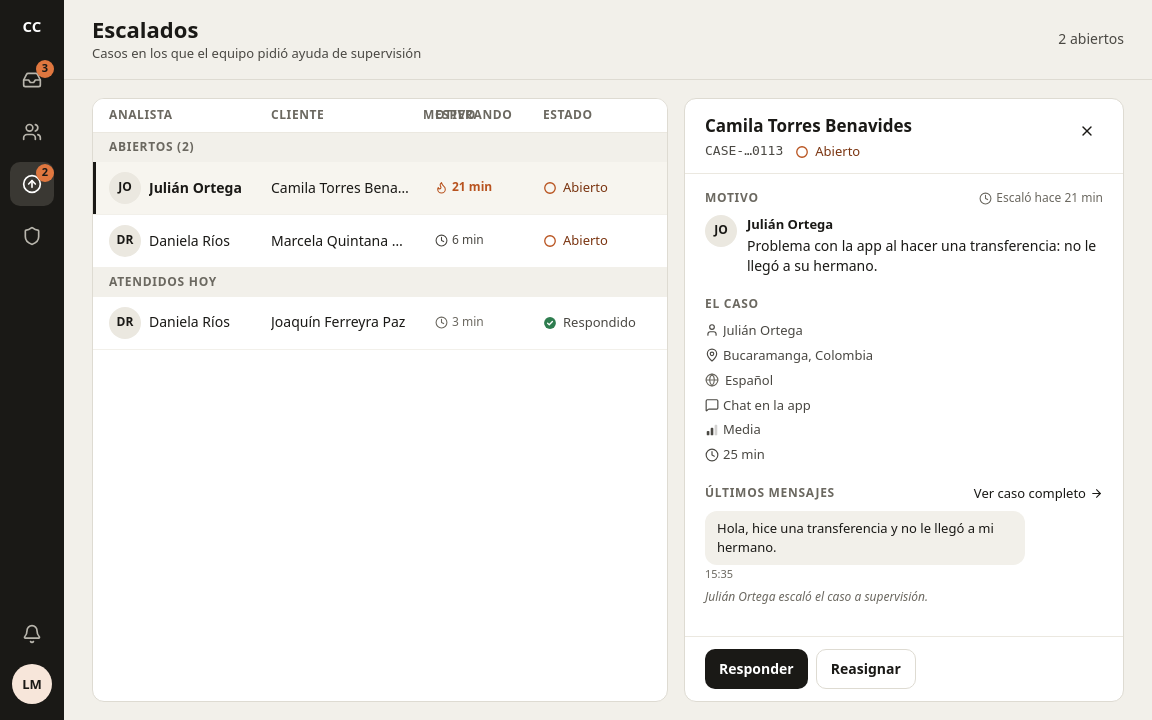
Test: escalations screen ("Escalados") › reports an escalation that was withdrawn meanwhile
Click the button "Responder" at (756, 669), box [705,649,808,689]
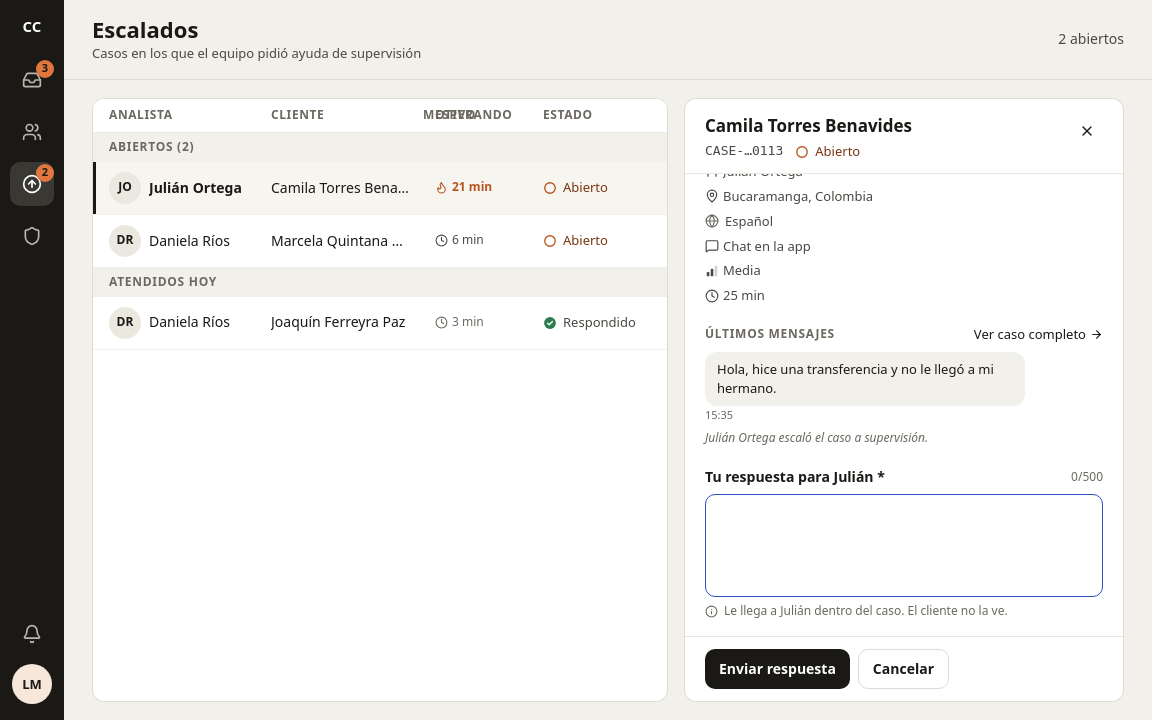
Type "Hola" into the text box at (904, 545), box [705,494,1103,597]
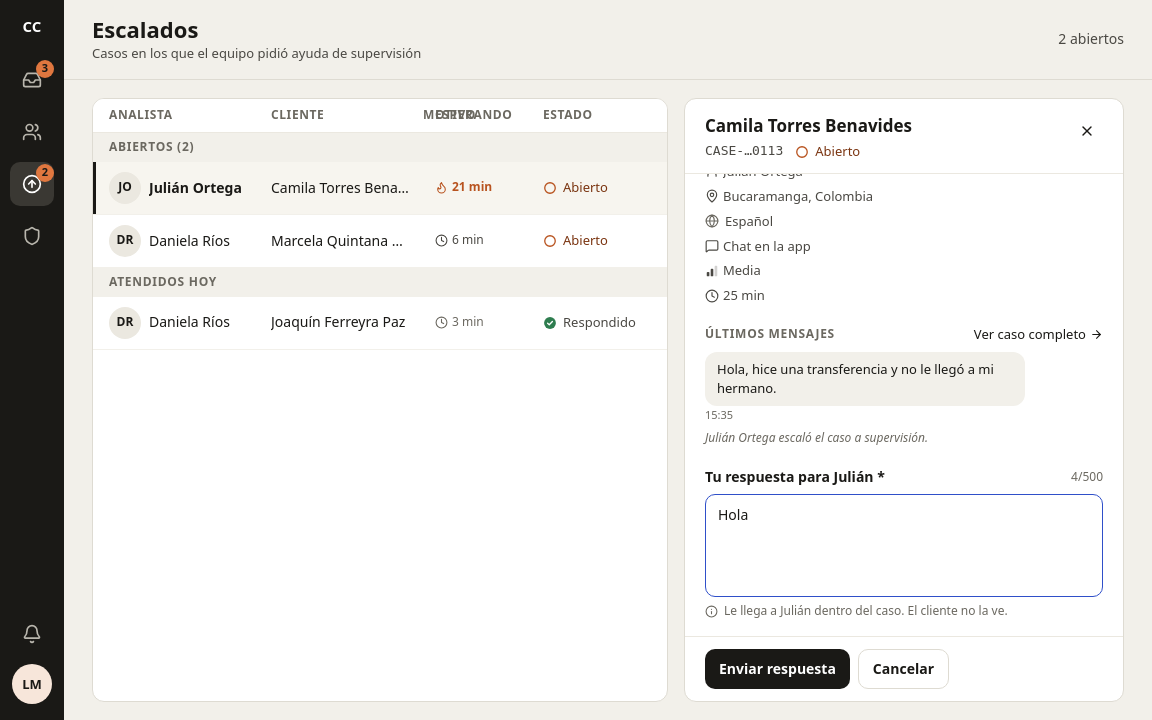
Click the button "Enviar respuesta" at (777, 669), box [705,649,850,689]
(page scrolled)
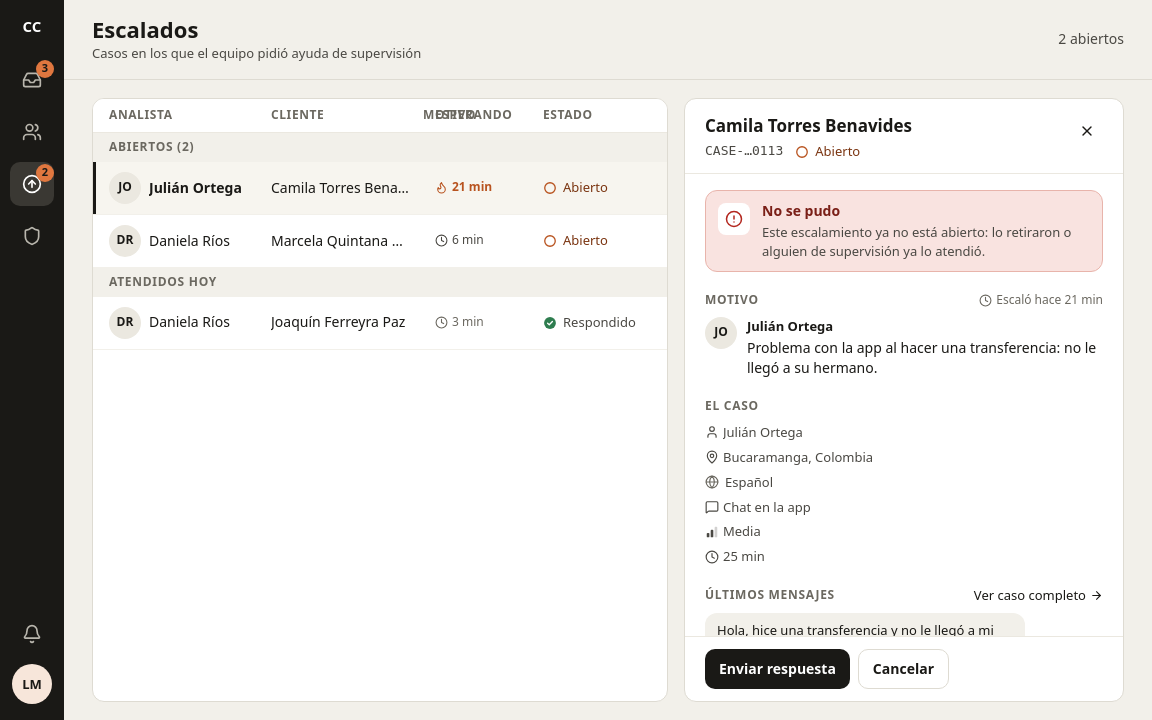
Now the text "Este escalamiento ya no está abierto" is shown, box [762,223,1071,260]
